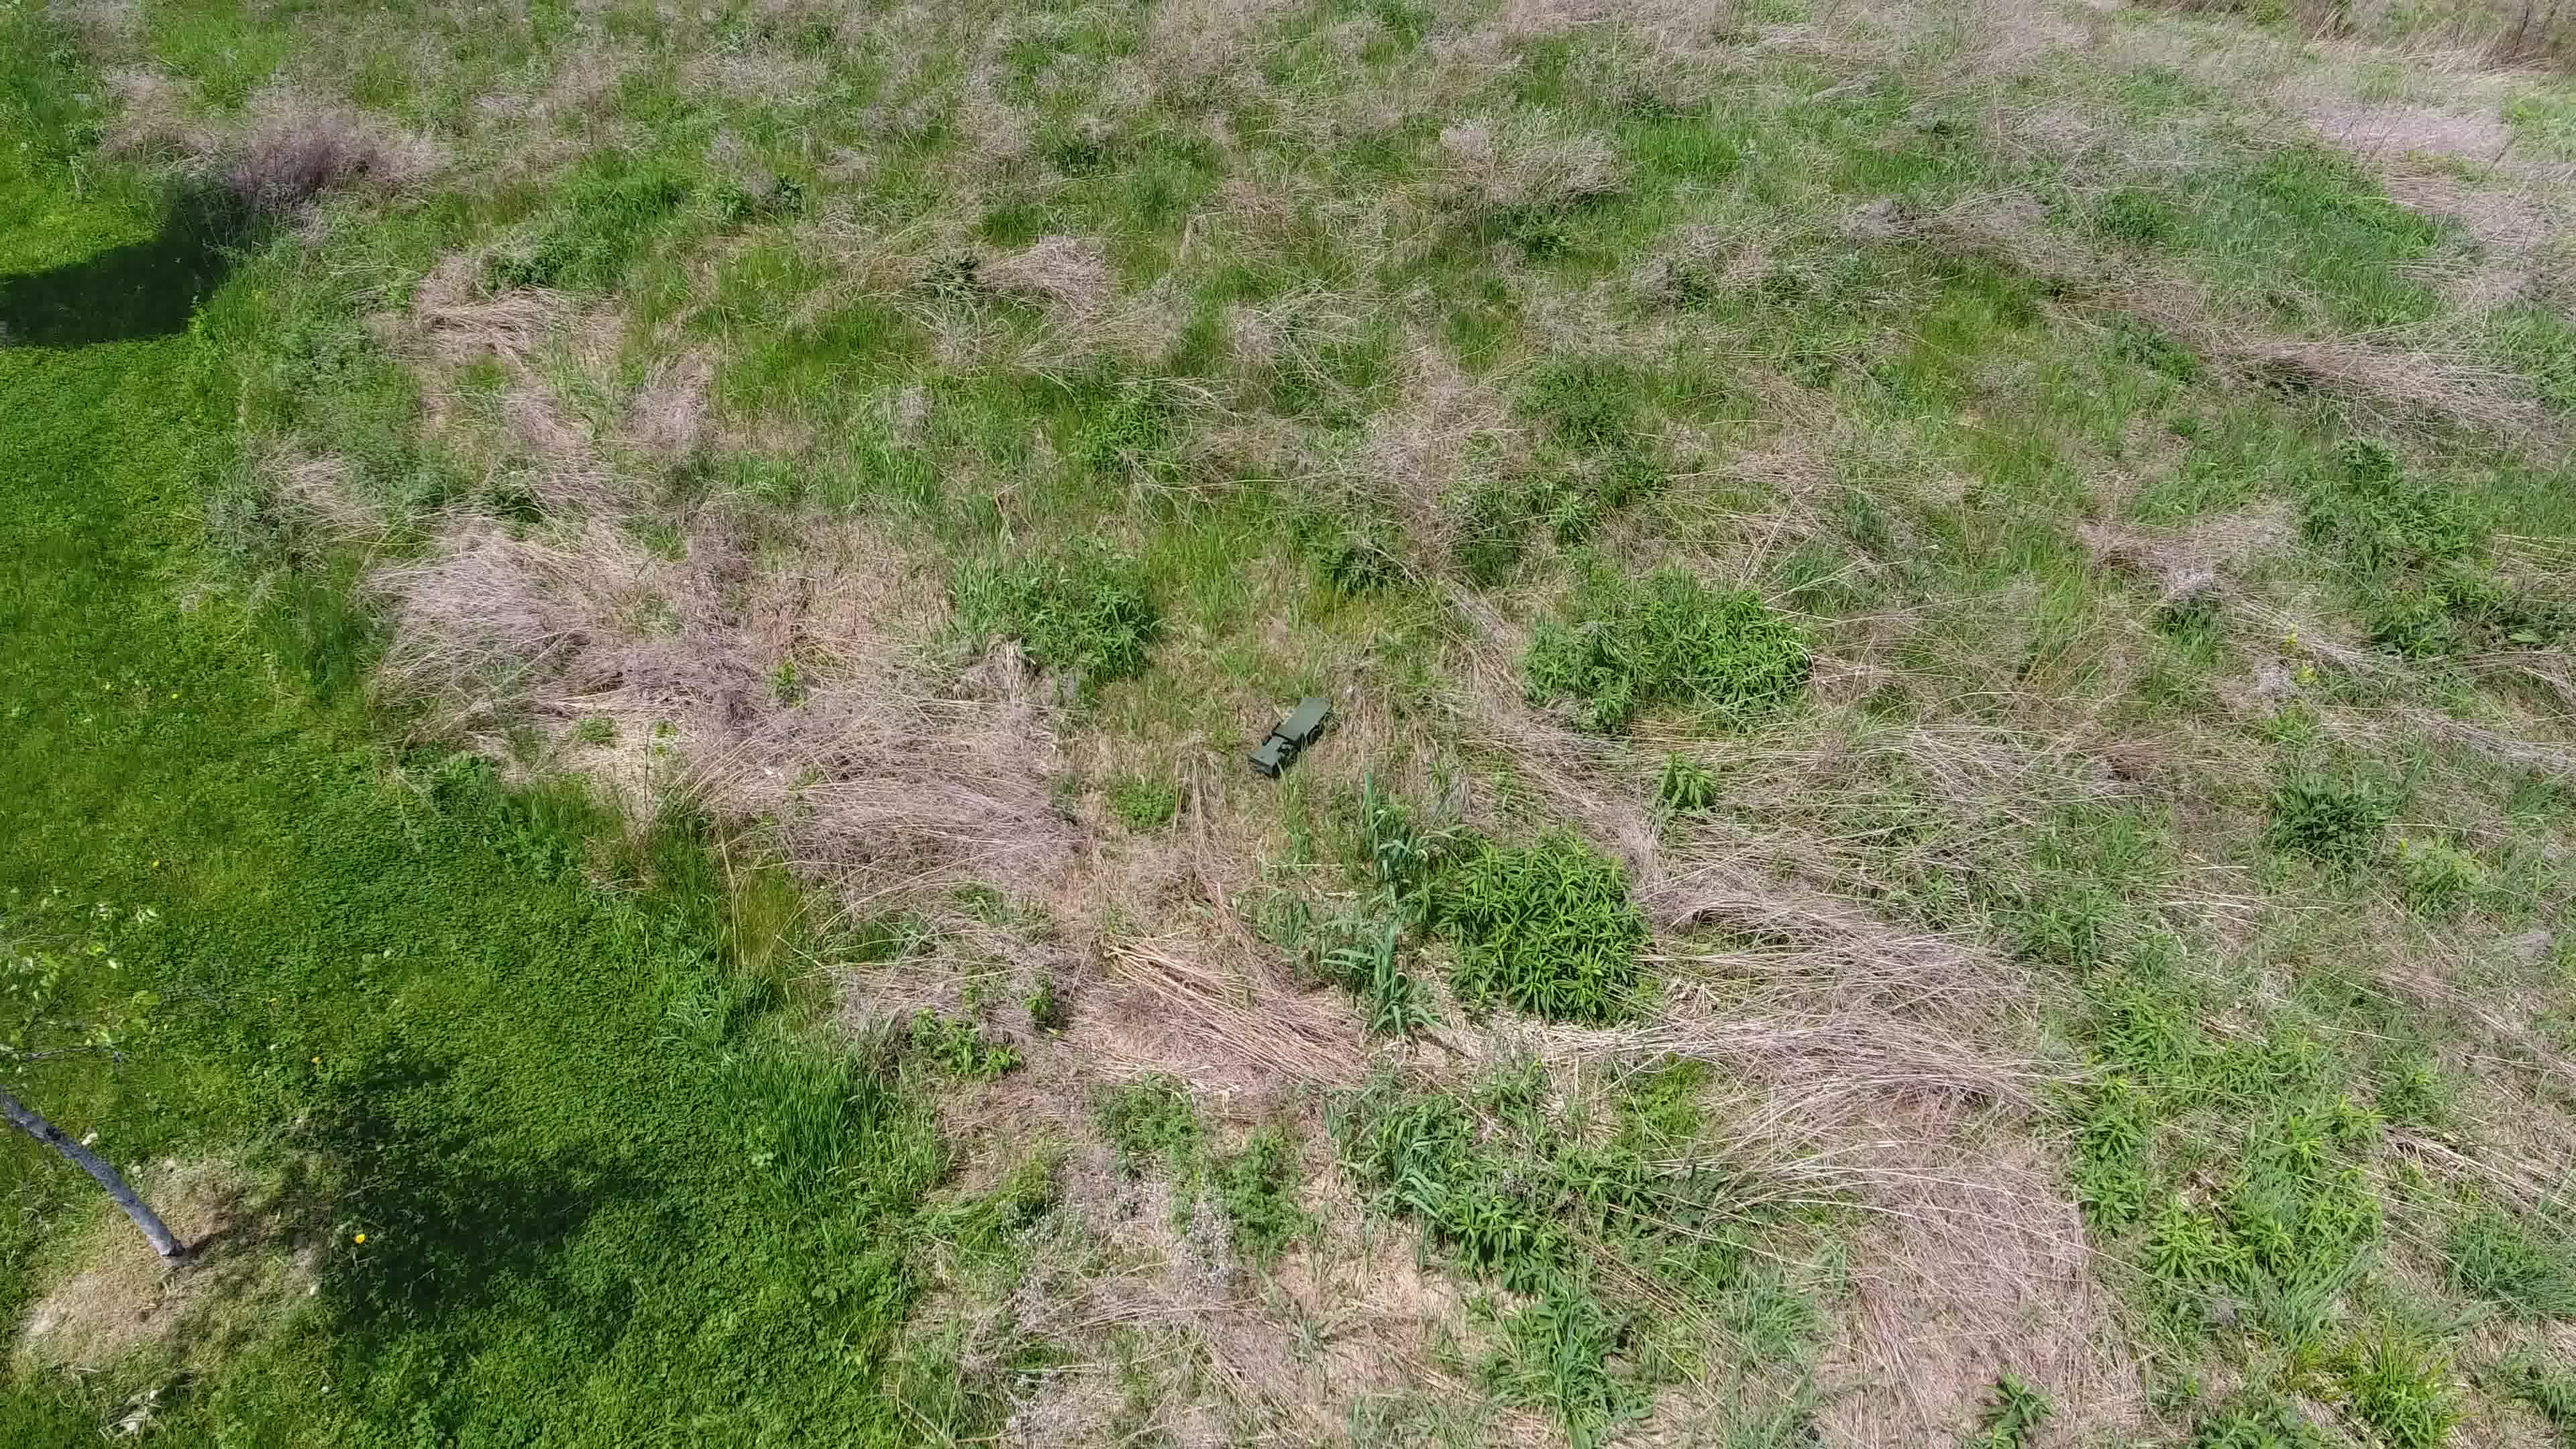transporter9: (1246, 690, 1334, 780)
